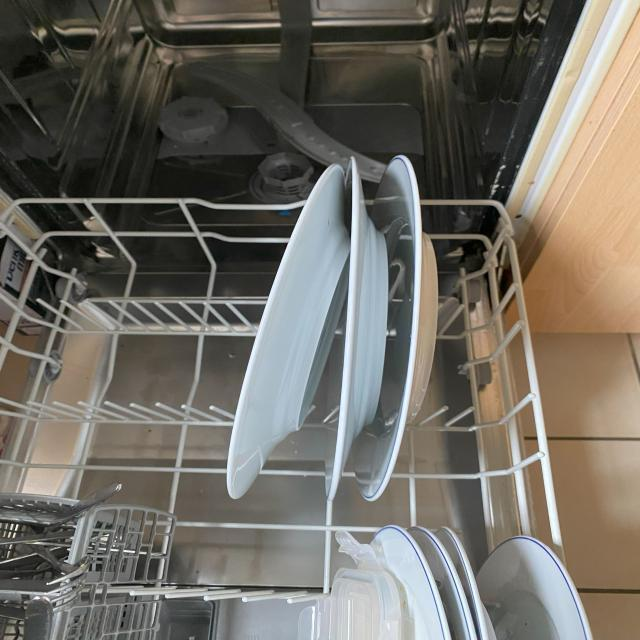clutery_bin: (0, 492, 156, 640)
empty_slot: (16, 219, 216, 458)
